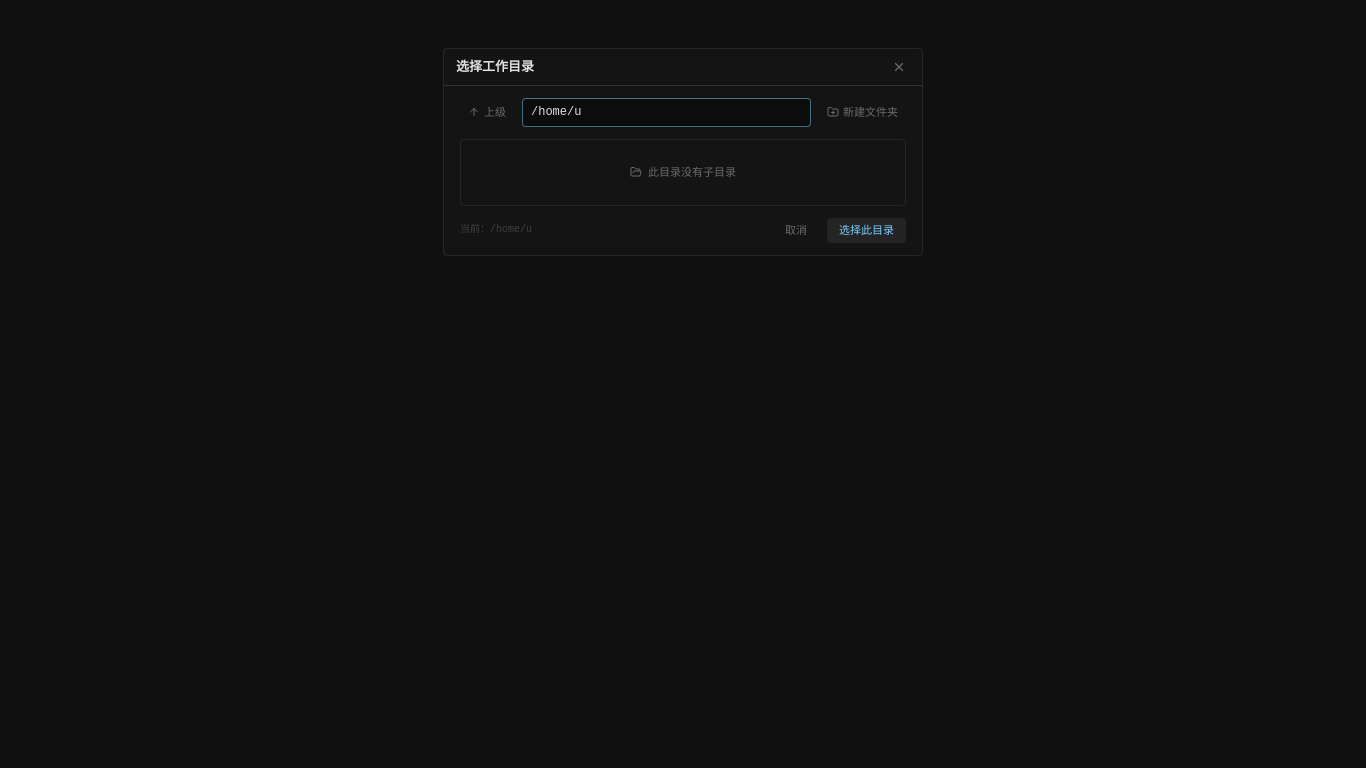
Test: DirectoryPickerModal › 新建文件夹：按当前目录建、建好直接进入新目录
Click the button "新建文件夹".
click(862, 112)  # box [819,100,906,125]
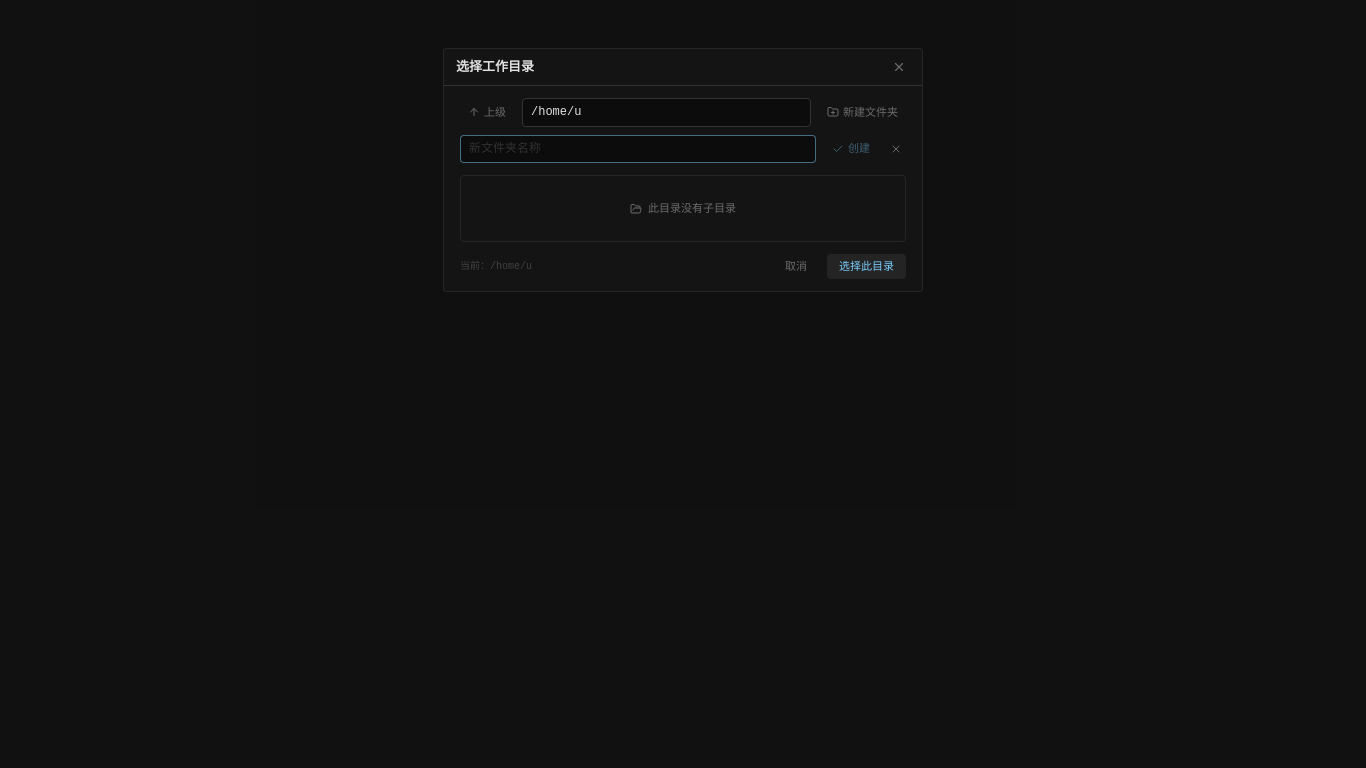
Type "proj" into the field with placeholder "新文件夹名称".
click(638, 149); type("proj")  # box [460,135,816,163]
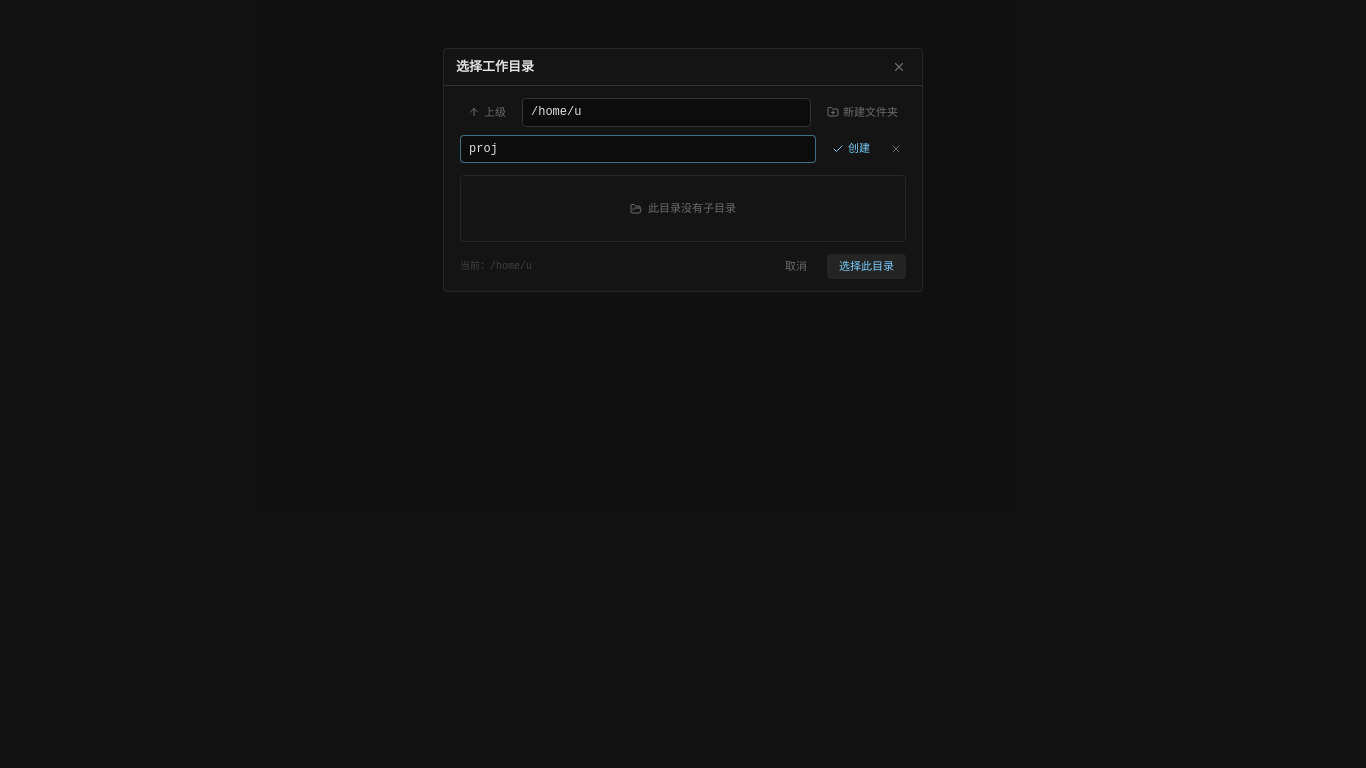
Press Enter in the 2nd field with placeholder "新文件夹名称", box [460,135,816,163]
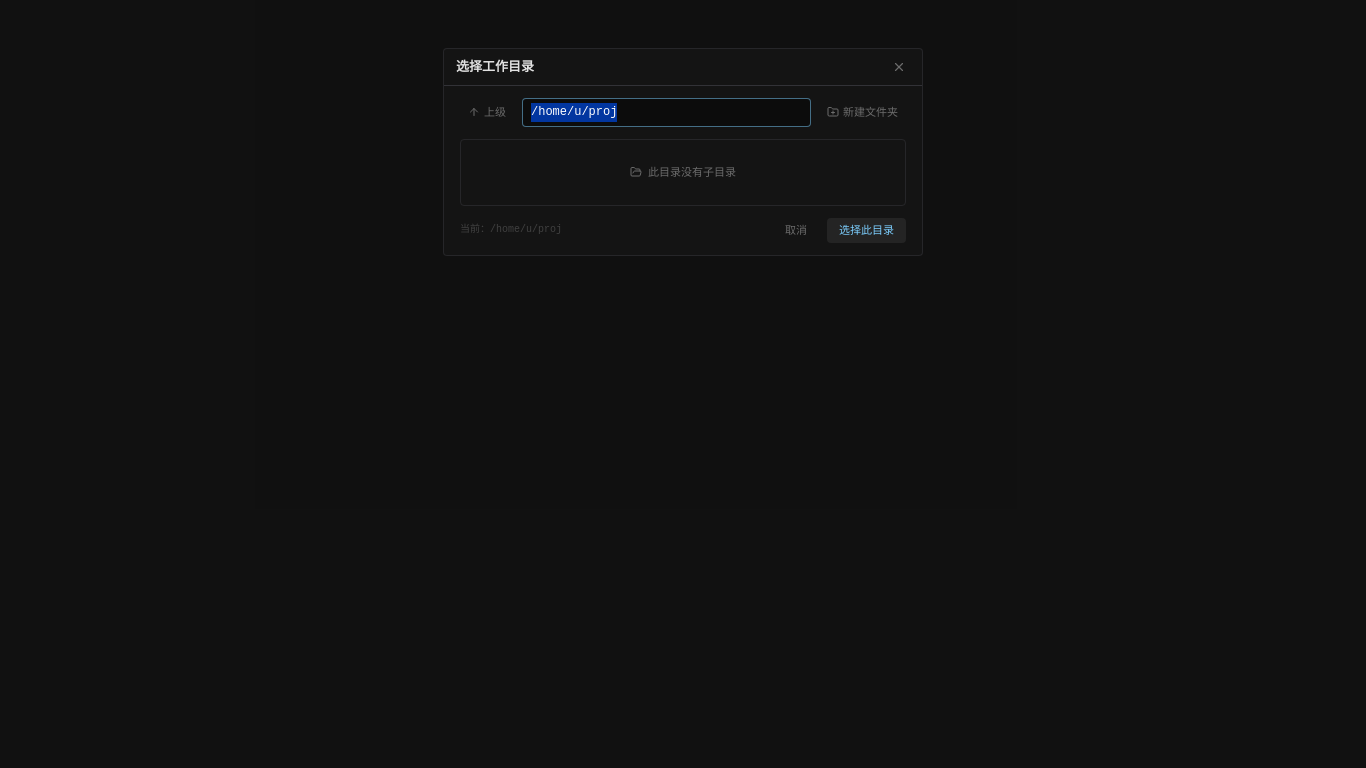
Expected: the text "当前：/home/u/proj" is shown, [460,222,562,238]
Expected: the field with placeholder "新文件夹名称" is gone
